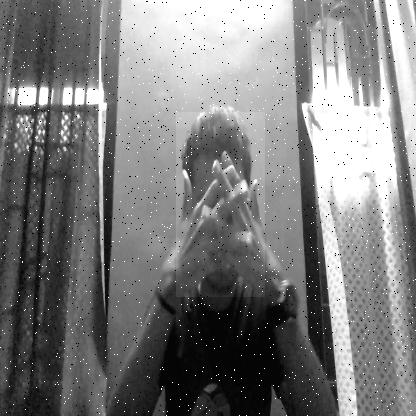Distracted: (176, 112, 265, 297)
